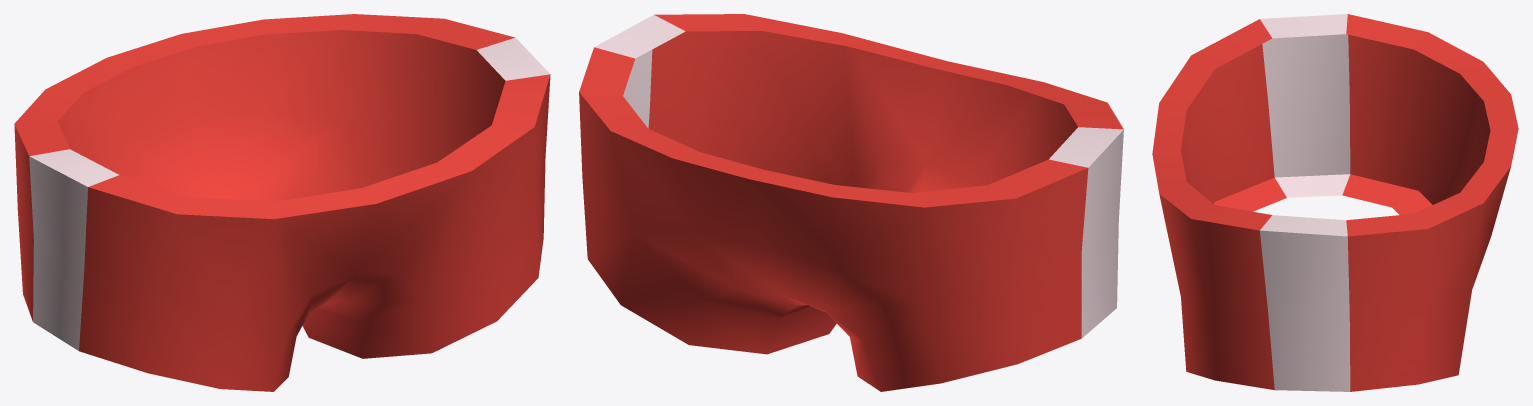
Rendered from Shorts_02.glb.
3 views of the same model, side by side, from view 1: azimuth 30°, elevation 25°; view 2: azimuth 150°, elevation 25°; view 3: azimuth 270°, elevation 25° (orthographic). The views are drawn at different scales.
Parts seen in each view (by area): view 1: Shorts_02; view 2: Shorts_02; view 3: Shorts_02.
Boxes of the visible parts, x1,y1,x2,y2 form: Shorts_02: (14,14,550,391); Shorts_02: (579,14,1123,391); Shorts_02: (1152,14,1518,391).
Bounding box in the file's own units: 0.2368 × 0.1108 × 0.1647.
Materials: 1 (1 with a texture image).
